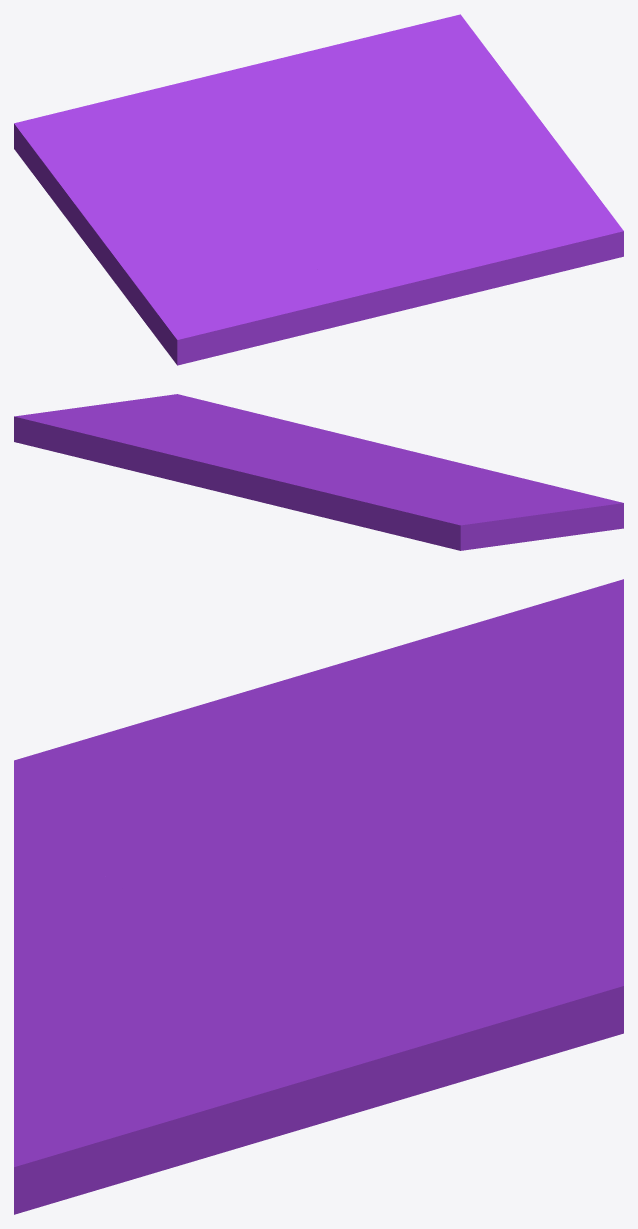
The model's file is Window_141_chunks.fbx.
The picture shows the model from 3 angles, top to bottom: view 1: azimuth 30°, elevation 25°; view 2: azimuth 150°, elevation 25°; view 3: azimuth 270°, elevation 25°; orthographic projection. The views are drawn at different scales.
Parts seen in each view (by area): view 1: Window_141_2, Window_141_1, Window_141_0, Window_141_5, Window_141_3, Window_141_6, Window_141_4; view 2: Window_141_2, Window_141_0, Window_141_1, Window_141_5, Window_141_3, Window_141_6, Window_141_4; view 3: Window_141_2, Window_141_1, Window_141_0, Window_141_5, Window_141_3, Window_141_6, Window_141_4.
Part boxes in pixels (box(x1,y1,x2,y2)): Window_141_2: box(301, 14, 623, 270); Window_141_1: box(25, 138, 332, 342); Window_141_0: box(14, 53, 310, 191); Window_141_5: box(316, 200, 564, 326); Window_141_3: box(158, 255, 335, 365); Window_141_6: box(268, 221, 347, 271); Window_141_4: box(295, 188, 372, 226); Window_141_2: box(14, 394, 322, 476); Window_141_0: box(159, 455, 492, 550); Window_141_1: box(307, 457, 623, 546); Window_141_5: box(262, 414, 465, 466); Window_141_3: box(441, 464, 623, 530); Window_141_6: box(356, 456, 452, 476); Window_141_4: box(312, 449, 397, 468); Window_141_2: box(14, 841, 623, 1214); Window_141_1: box(14, 591, 581, 887); Window_141_0: box(357, 579, 623, 863); Window_141_5: box(14, 883, 231, 1090); Window_141_3: box(14, 768, 163, 904); Window_141_6: box(97, 834, 213, 905); Window_141_4: box(197, 857, 283, 926).
Size of the model in its own units: 1838 by 482 by 1165.
